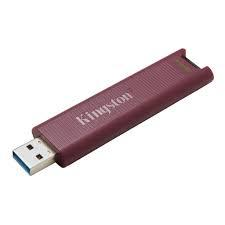Flash-drive: (4, 42, 225, 186)
